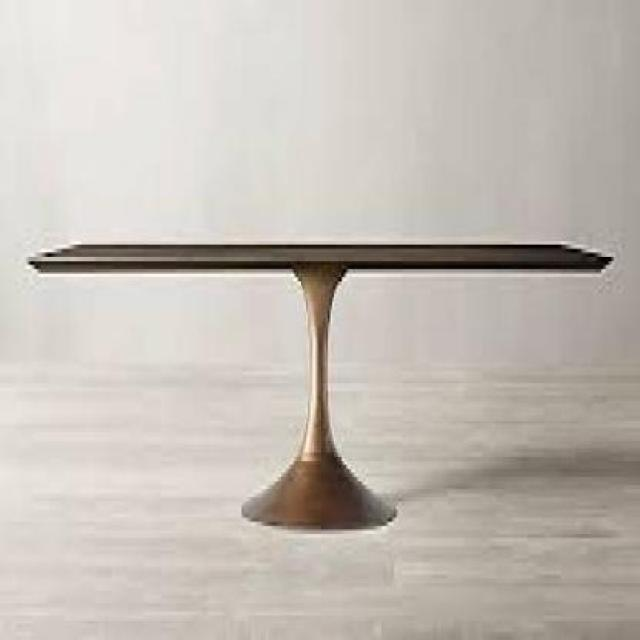tables: (24, 240, 614, 529)
